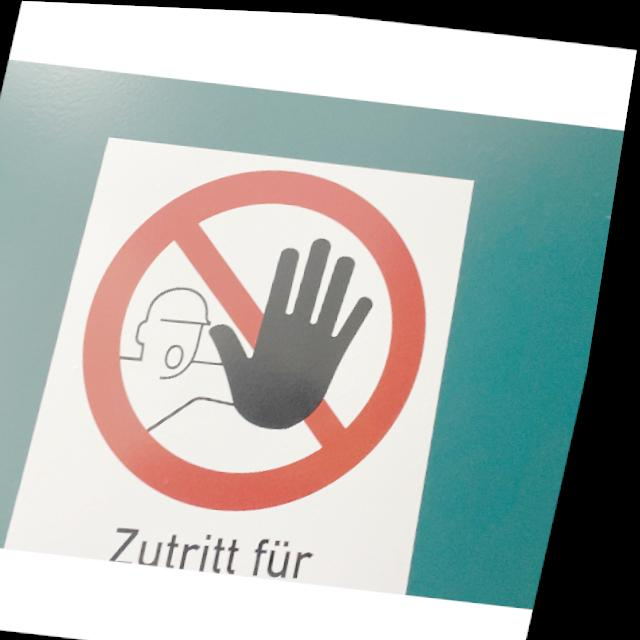No access for unauthorized persons: (60, 149, 469, 526)
